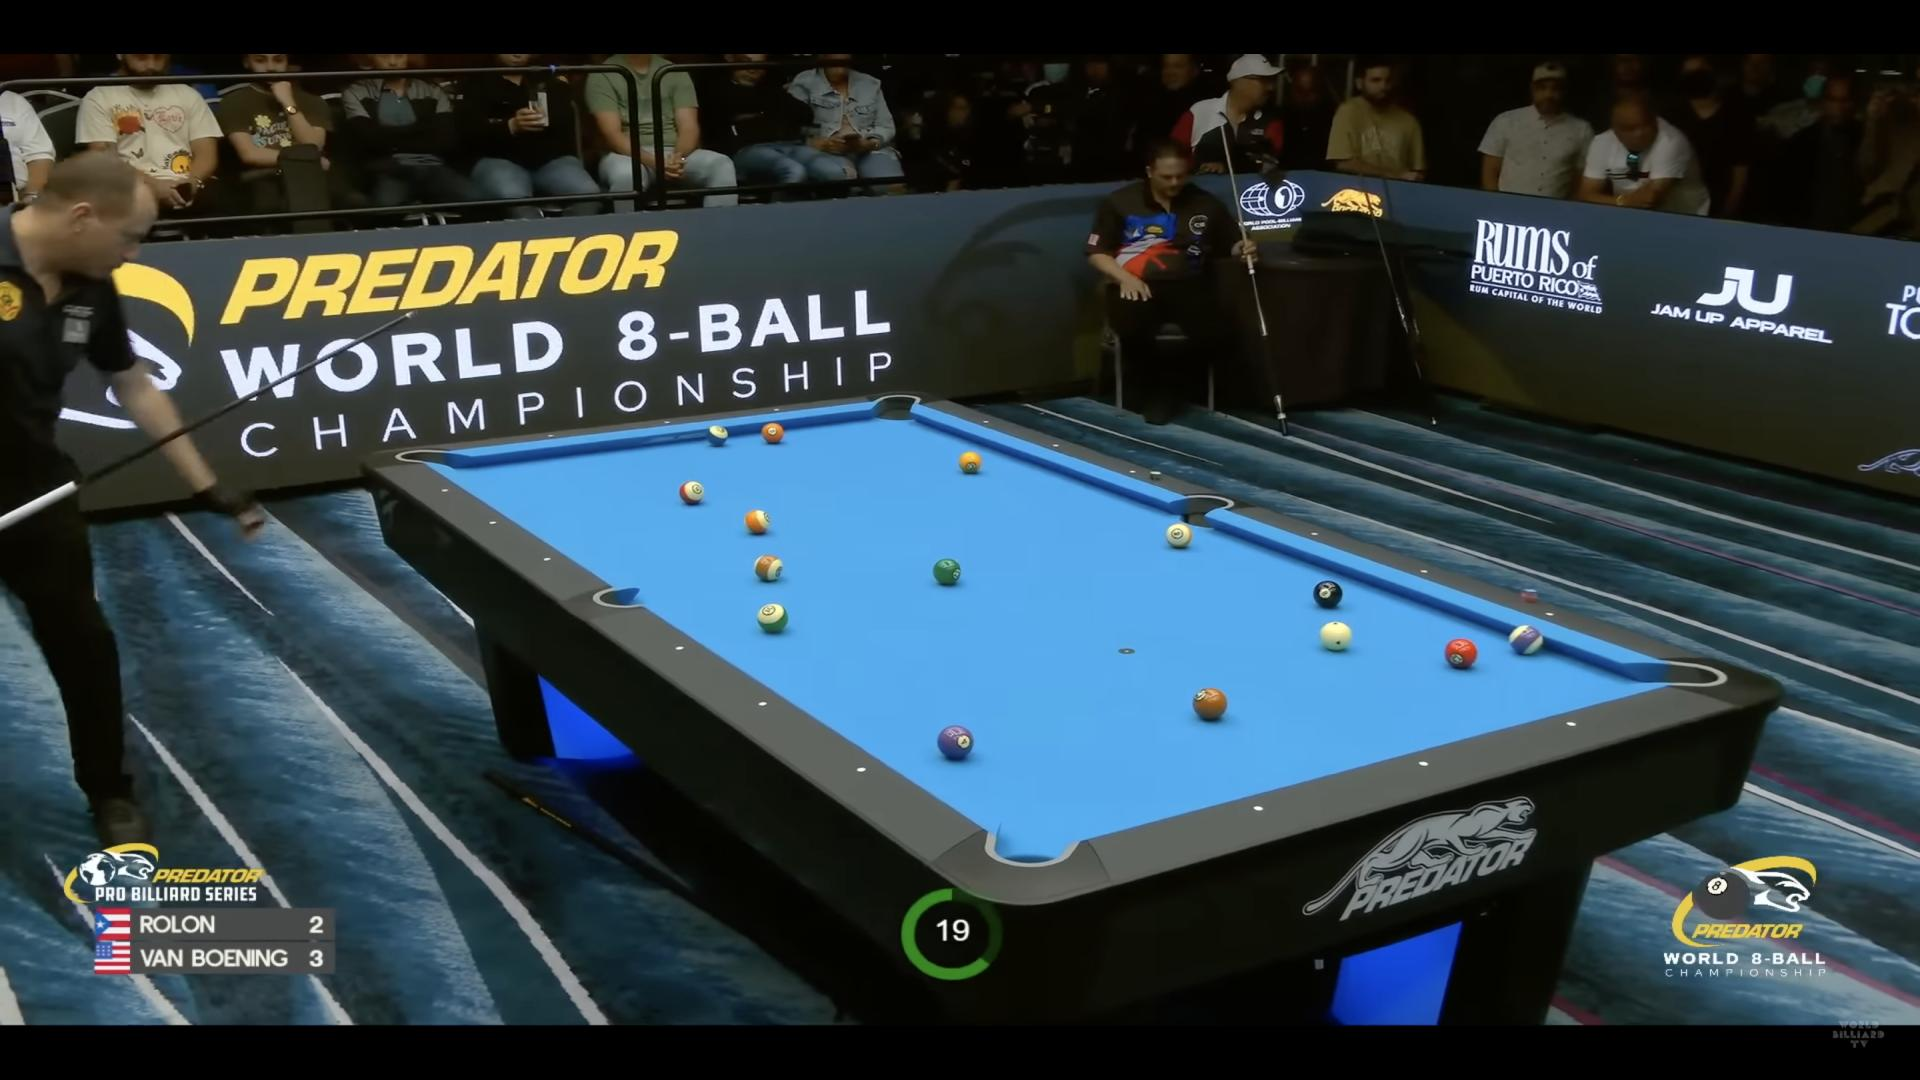Black: (1312, 579, 1342, 608)
Cue: (1320, 621, 1353, 650)
Dot: (1539, 605, 1560, 624), (1249, 800, 1269, 819), (1415, 754, 1435, 773), (753, 695, 773, 713), (669, 640, 688, 658), (537, 551, 556, 570), (851, 761, 872, 778), (1561, 715, 1581, 732), (1414, 560, 1433, 578), (488, 517, 498, 527), (440, 485, 451, 496), (545, 430, 555, 440), (1126, 465, 1137, 476), (662, 418, 673, 427), (771, 406, 782, 415), (1051, 442, 1060, 450), (981, 417, 990, 425)
Solid: (938, 725, 975, 760), (1192, 687, 1228, 720), (1444, 638, 1477, 669), (934, 559, 961, 584), (957, 451, 982, 472), (761, 422, 783, 443)
Striped: (1509, 625, 1544, 655), (757, 603, 787, 633), (754, 555, 783, 582), (744, 509, 771, 534), (1166, 524, 1192, 549), (679, 481, 704, 504), (707, 426, 728, 446)
